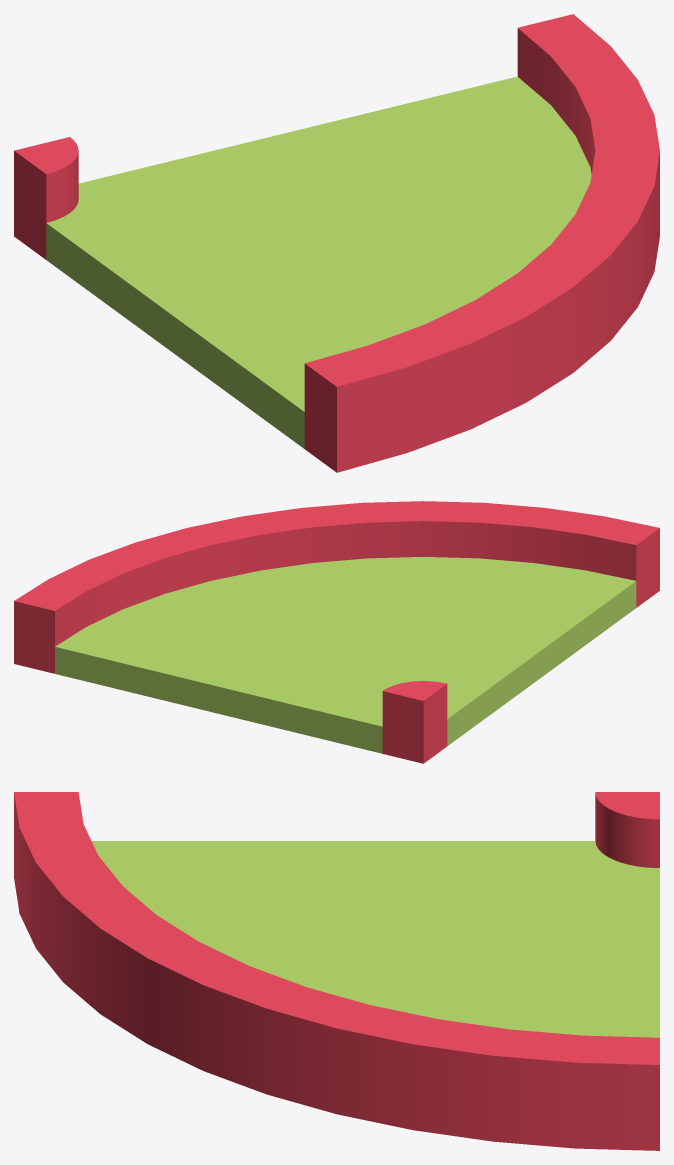
File: roundCornerA.fbx
3 renders of one model, top to bottom at view 1: azimuth 30°, elevation 25°; view 2: azimuth 150°, elevation 25°; view 3: azimuth 270°, elevation 25°, orthographic. The views are drawn at different scales.
Visible parts, largest first — view 1: roundCornerA; view 2: roundCornerA; view 3: roundCornerA.
Boxes of the visible parts, left/top/right/bottom form: roundCornerA: left=14, top=14, right=659, bottom=472; roundCornerA: left=14, top=501, right=659, bottom=763; roundCornerA: left=14, top=792, right=659, bottom=1150.
Size of the model in its own units: 10 by 1.47 by 10.
